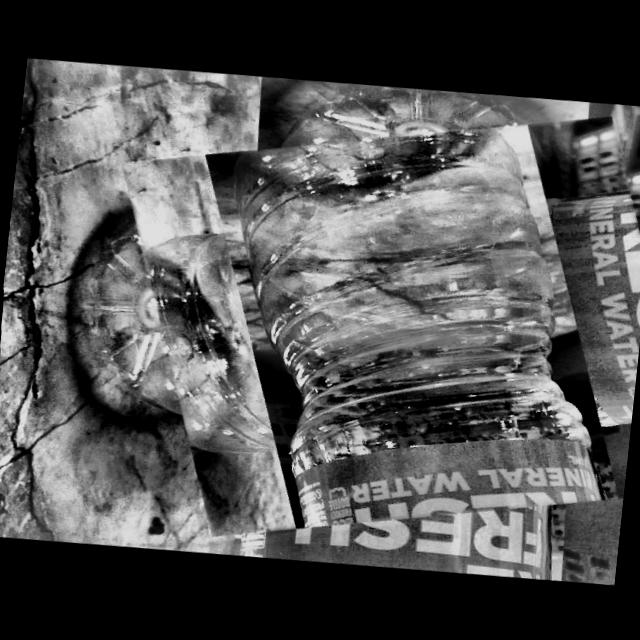Plastic-Bottle: (104, 84, 640, 561)
